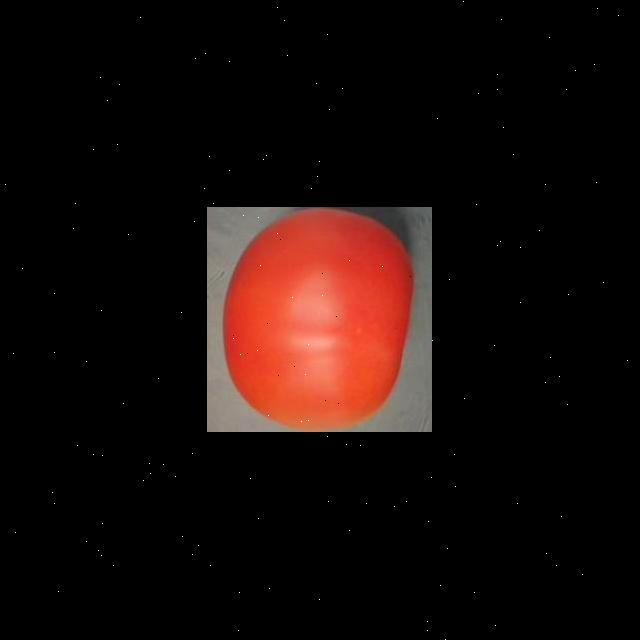tomato: (218, 208, 416, 432)
